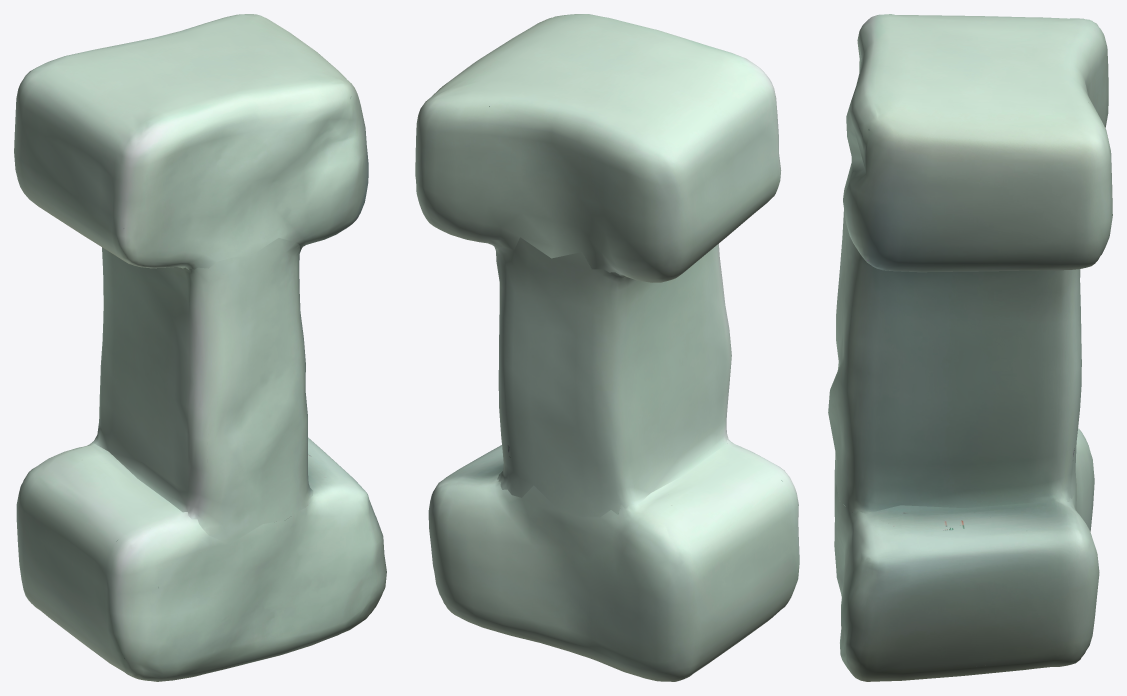
File: Stack 0A - I.glb
The picture shows the model from 3 angles, left to right: view 1: azimuth 30°, elevation 25°; view 2: azimuth 150°, elevation 25°; view 3: azimuth 270°, elevation 25°; orthographic projection. The views are drawn at different scales.
Parts seen in each view (by area): view 1: I part 3, I part 1, I part 2; view 2: I part 3, I part 1, I part 2; view 3: I part 3, I part 2, I part 1.
Part boxes in pixels (x1,y1,x2,y2): I part 3: (14, 14, 368, 269); I part 1: (16, 437, 386, 681); I part 2: (93, 238, 313, 544); I part 3: (415, 14, 781, 282); I part 1: (428, 440, 799, 681); I part 2: (493, 237, 731, 517); I part 3: (843, 14, 1112, 272); I part 2: (828, 210, 1081, 513); I part 1: (834, 428, 1099, 681).
Bounding box in the file's own units: 0.5142 × 1 × 0.4374.
3 materials, 3 textured.
